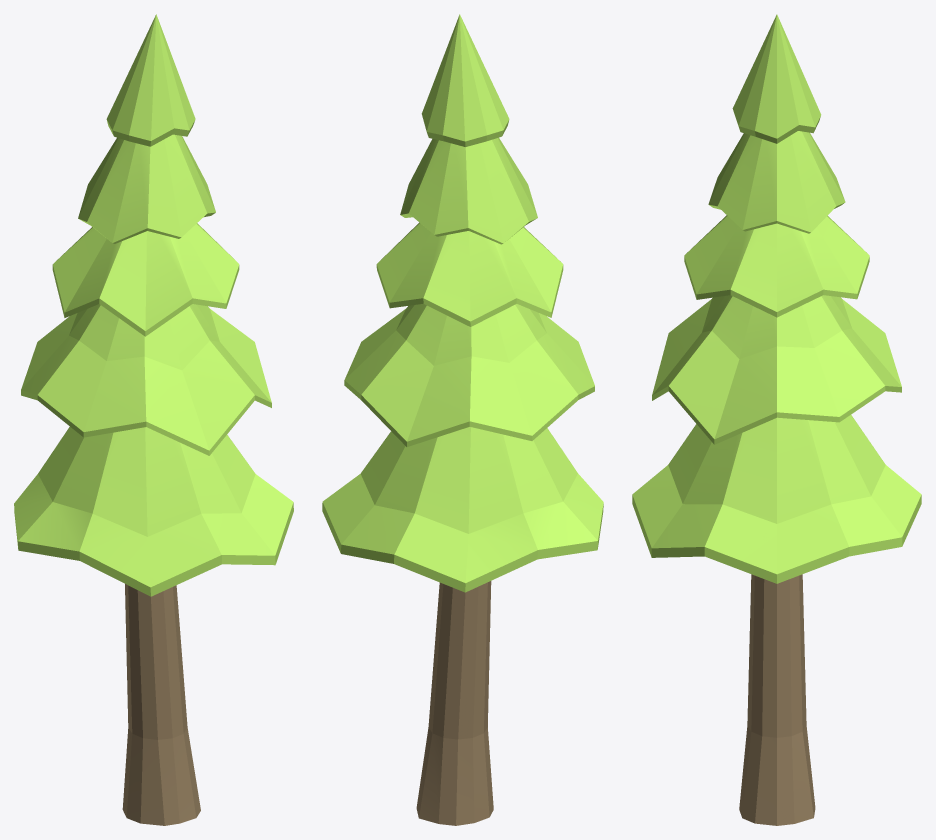
File: more tree4.fbx
3 views of the same model, side by side, from view 1: azimuth 30°, elevation 25°; view 2: azimuth 150°, elevation 25°; view 3: azimuth 270°, elevation 25° (orthographic).
Visible parts, largest first — view 1: tree_006_light_green; view 2: tree_006_light_green; view 3: tree_006_light_green.
Part boxes in pixels (left/top/right/bottom): tree_006_light_green: left=14, top=14, right=293, bottom=825; tree_006_light_green: left=322, top=14, right=603, bottom=825; tree_006_light_green: left=632, top=14, right=921, bottom=825.
Size of the model in its own units: 1.75 by 5.17 by 1.71.
